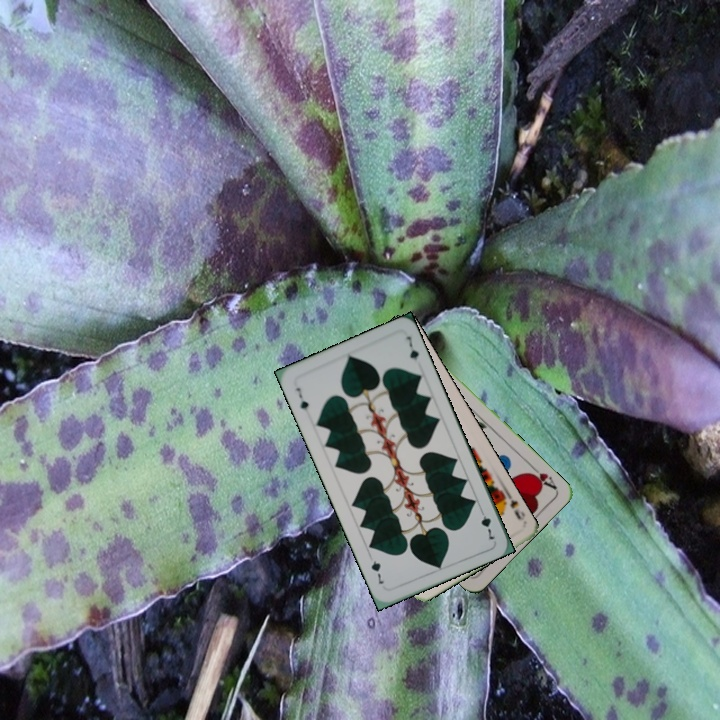G7: (475, 504, 498, 542), (291, 383, 311, 413)
HA: (523, 460, 559, 492)
S9: (497, 487, 527, 523)
